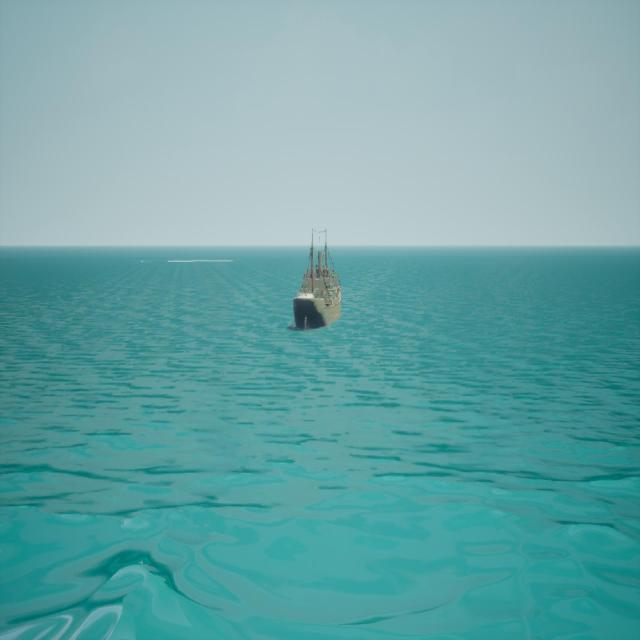fishing ship: (291, 230, 344, 332)
